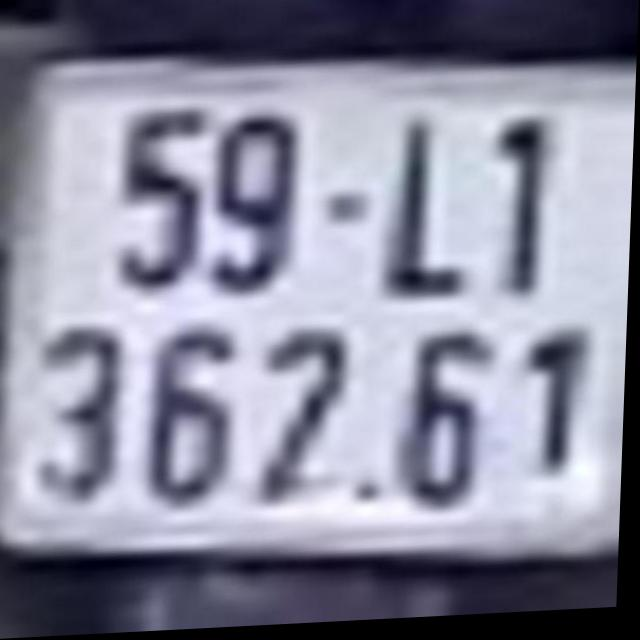1: (491, 120, 551, 295), (529, 331, 588, 506)
2: (263, 321, 352, 516)
3: (33, 317, 122, 502)
5: (119, 114, 204, 291)
6: (411, 332, 493, 520), (156, 333, 239, 505)
9: (212, 120, 306, 300)
L: (393, 113, 471, 296)
